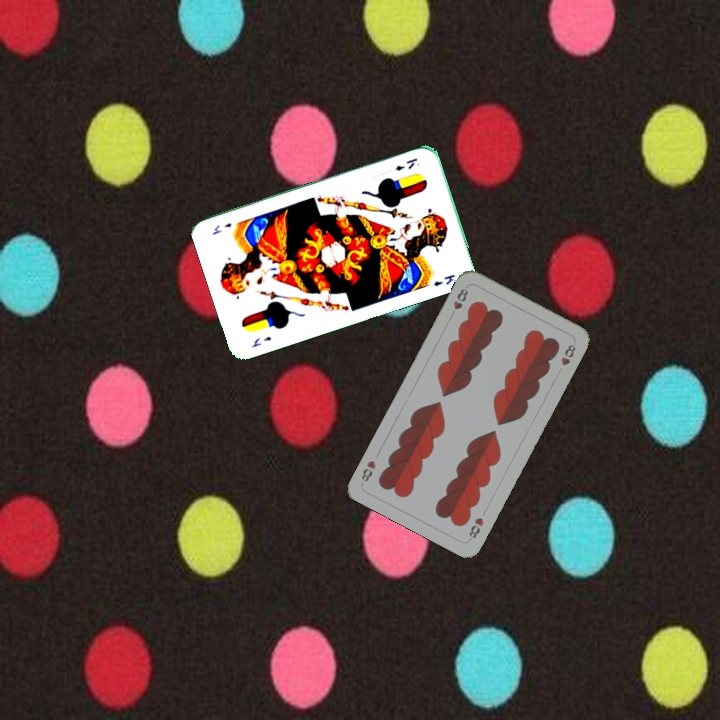EK: (391, 154, 420, 173), (247, 332, 274, 350)
H8: (446, 284, 471, 320), (465, 513, 486, 543)
